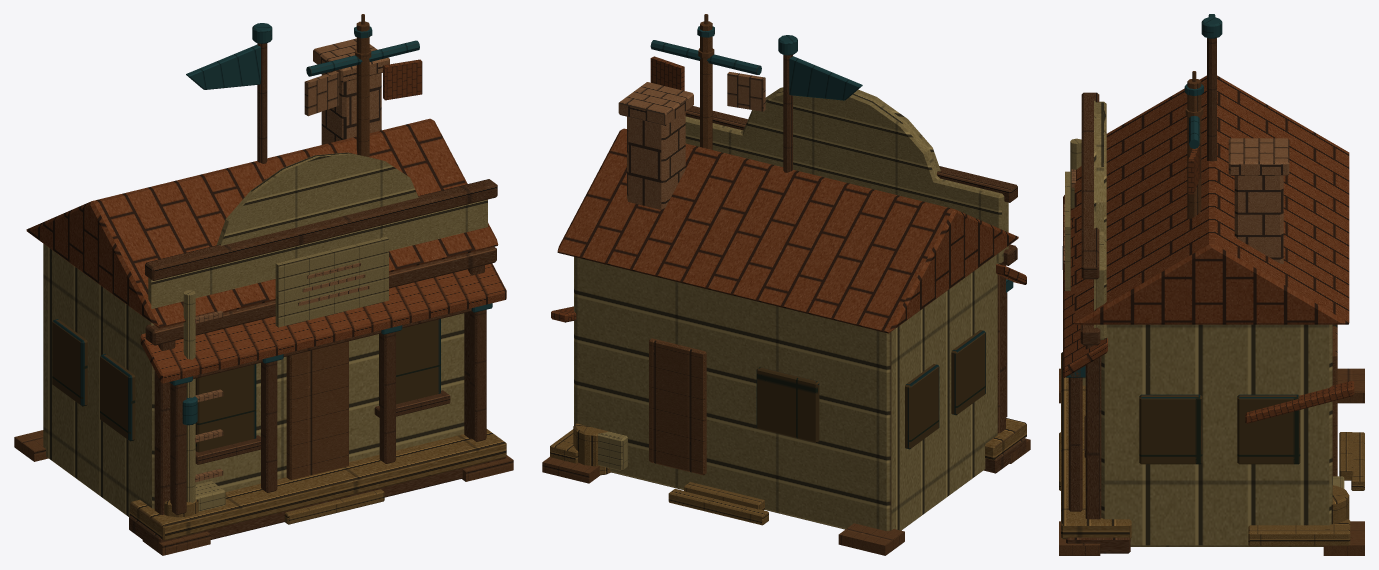
File: claim-office.e5.glb
3 renders of one model, left to right at view 1: azimuth 30°, elevation 25°; view 2: azimuth 150°, elevation 25°; view 3: azimuth 270°, elevation 25°, orthographic. The views are drawn at different scales.
Visible parts, largest first — view 1: ClaimOfficeE5; view 2: ClaimOfficeE5; view 3: ClaimOfficeE5.
Boxes of the visible parts, bbox=[...] form: ClaimOfficeE5: bbox=[14, 14, 513, 555]; ClaimOfficeE5: bbox=[542, 14, 1030, 555]; ClaimOfficeE5: bbox=[1059, 14, 1364, 555].
Bounding box in the file's own units: 4.26 × 5.02 × 3.12.
Materials: 1 (1 with a texture image).
